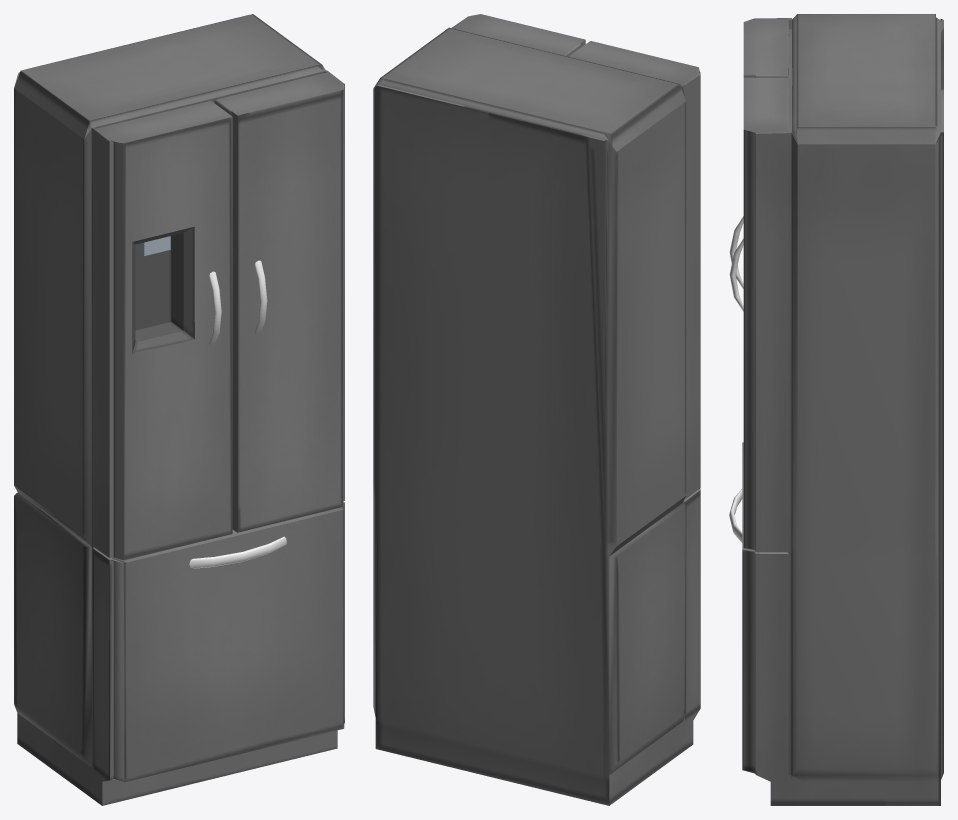
The model's file is Fridge.fbx.
The picture shows the model from 3 angles, left to right: view 1: azimuth 30°, elevation 25°; view 2: azimuth 150°, elevation 25°; view 3: azimuth 270°, elevation 25°; orthographic projection.
Visible parts, largest first — view 1: Fridge; view 2: Fridge; view 3: Fridge.
Part boxes in pixels (<box>): Fridge: <box>14,14,344,805</box>; Fridge: <box>373,14,700,805</box>; Fridge: <box>729,14,943,805</box>.
Size of the model in its own units: 4.19 by 10.98 by 3.16.
